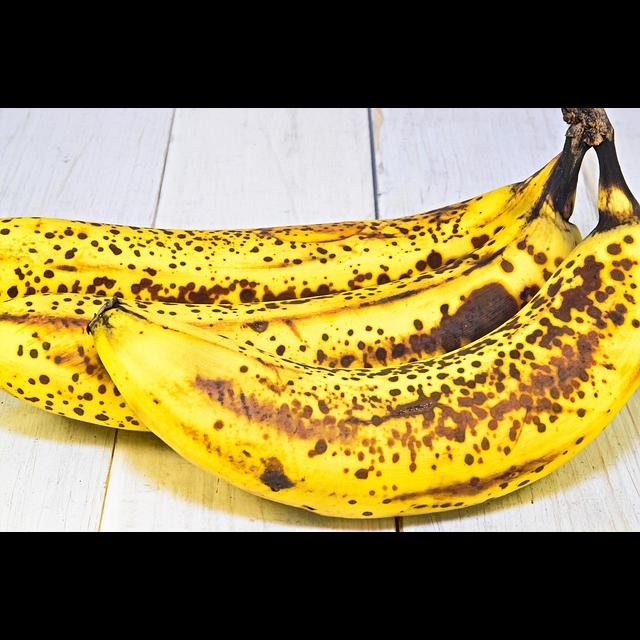banana: (67, 187, 640, 541), (0, 167, 593, 441), (0, 159, 552, 331)
